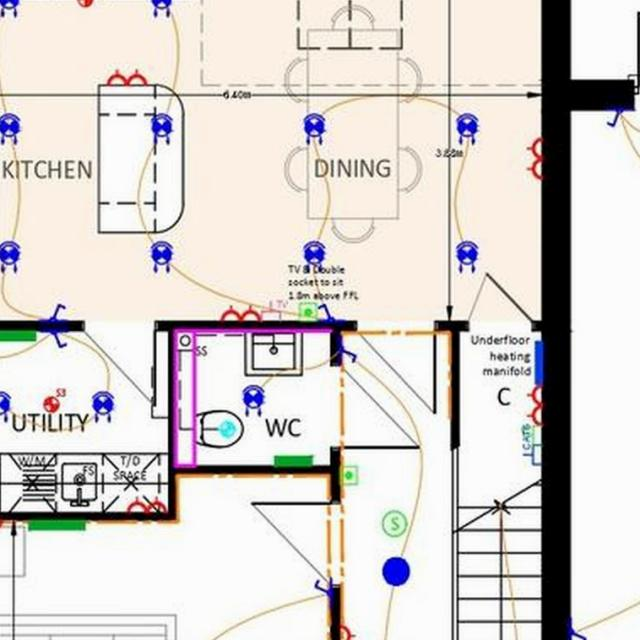Cat 6 Data Socket: (518, 426, 540, 466)
Ceiling Mounted Continuous Extract FanWith Boost Mode Activated By Light Switch: (218, 420, 234, 438)
Ceiling Mounted Continuous Extract FanWith Local Boost Switch: (41, 387, 66, 412), (77, 0, 98, 7)
Co-Ax TV Socket: (258, 300, 289, 320)
Double Socket: (106, 68, 147, 84), (126, 496, 166, 512), (220, 304, 260, 320), (526, 138, 541, 179), (526, 386, 541, 425)
Light Switch: (604, 108, 624, 127), (47, 331, 68, 348), (47, 303, 67, 320), (317, 303, 336, 320), (313, 578, 330, 596), (341, 345, 356, 363), (569, 626, 587, 640)
Low Energy Downlighter: (455, 112, 478, 146), (150, 240, 172, 272), (302, 114, 325, 144), (456, 241, 478, 272), (91, 391, 113, 422), (242, 385, 264, 416), (302, 241, 324, 271), (0, 239, 19, 273), (151, 114, 172, 144), (0, 112, 19, 144), (150, 0, 172, 17), (0, 0, 19, 17), (0, 391, 9, 422)
Low Energy Pendant Light: (382, 557, 408, 585)
Mains Wired Smoke Detector: (381, 509, 407, 535)
Programmable Room Thermostat: (341, 464, 357, 485), (299, 302, 317, 319)
Radiator: (28, 520, 84, 530), (274, 455, 312, 465), (0, 331, 35, 339)
Single Socket: (337, 624, 355, 640)
Telephone Socket: (523, 424, 541, 442)
Twin LED Strip Light: (534, 340, 542, 385)
